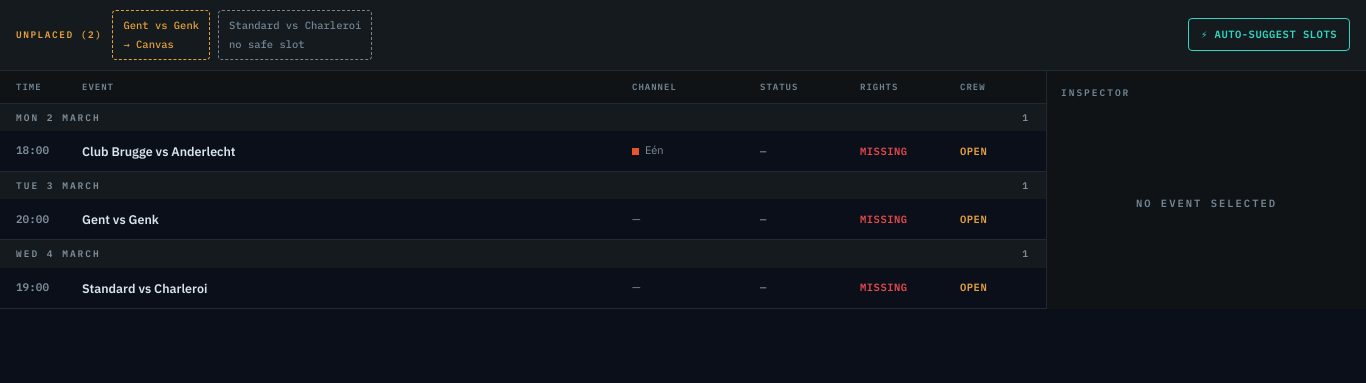
inspector › selecting a row populates the inspector
Click the button with test id "fm-schedule-row-1": {"x": 32, "y": 150} [0,131,1046,172]
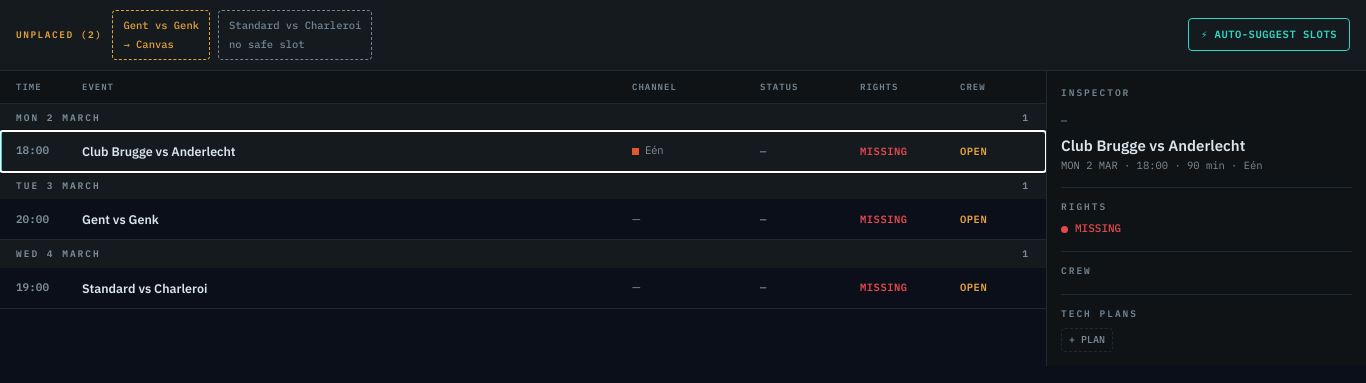
Expected: the text with test id "ops-inspector-title" reads "Club Brugge vs Anderlecht", [1061,136,1245,155]
